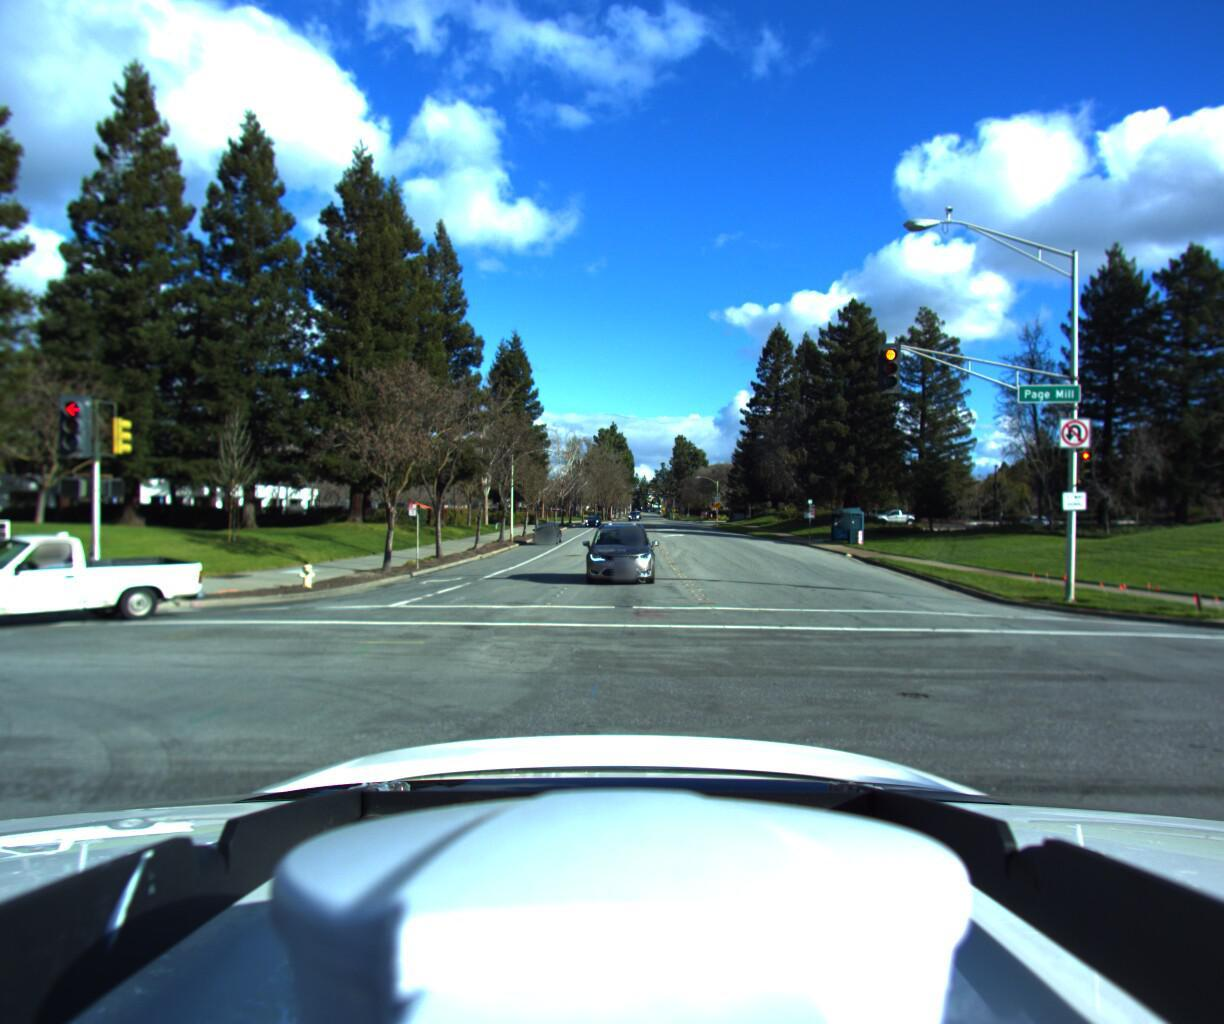car: (577, 515, 656, 586), (530, 520, 564, 545)
